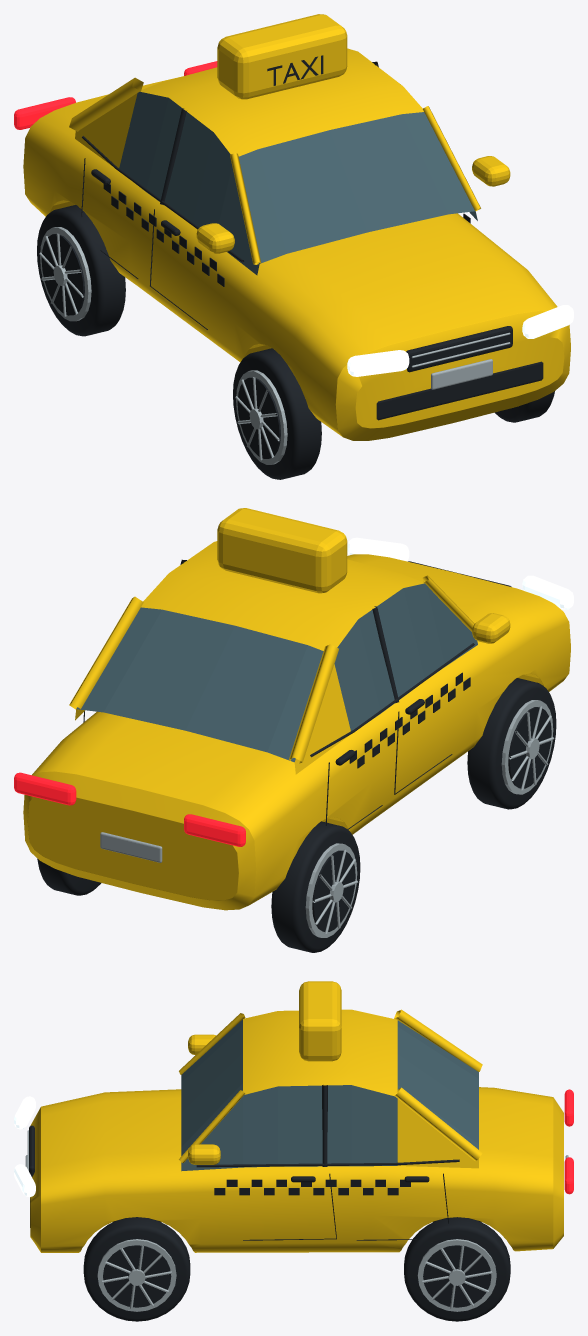
The model's file is car-6.glb.
The picture shows the model from 3 angles, top to bottom: view 1: azimuth 30°, elevation 25°; view 2: azimuth 150°, elevation 25°; view 3: azimuth 270°, elevation 25°; orthographic projection. The views are drawn at different scales.
Parts seen in each view (by area): view 1: Paint, Integrated cabin, Tyres and trim, Machined alloy, Headlight lens, Rear LED; view 2: Paint, Integrated cabin, Tyres and trim, Machined alloy, Rear LED, Headlight lens; view 3: Paint, Integrated cabin, Tyres and trim, Machined alloy, Headlight lens, Rear LED.
Part boxes in pixels (bbox=[...]): Paint: bbox=[23, 14, 570, 440]; Integrated cabin: bbox=[75, 48, 477, 275]; Tyres and trim: bbox=[37, 55, 554, 479]; Machined alloy: bbox=[39, 227, 510, 464]; Headlight lens: bbox=[347, 305, 573, 376]; Rear LED: bbox=[14, 61, 217, 129]; Paint: bbox=[23, 508, 570, 910]; Integrated cabin: bbox=[75, 541, 477, 774]; Tyres and trim: bbox=[37, 559, 556, 952]; Machined alloy: bbox=[100, 700, 554, 937]; Rear LED: bbox=[14, 772, 245, 846]; Headlight lens: bbox=[347, 537, 573, 609]; Paint: bbox=[30, 981, 563, 1252]; Integrated cabin: bbox=[181, 1009, 478, 1171]; Tyres and trim: bbox=[29, 1085, 510, 1321]; Machined alloy: bbox=[25, 1130, 568, 1311]; Headlight lens: bbox=[14, 1096, 35, 1197]; Rear LED: bbox=[564, 1089, 573, 1194].
Size of the model in its own units: 0.366 by 0.3855 by 0.724.
